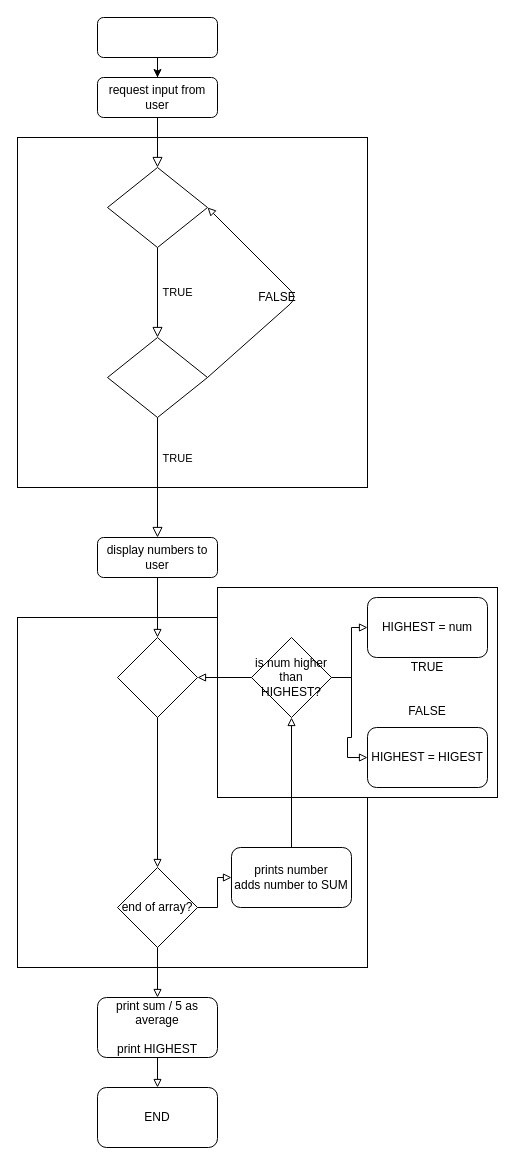
The diagram is 515 pixels wide and 1165 high, and some of its shapes have lost their labels. Here are the shapes that lost their labels. From the top down, the box of each, then its label:
(96, 16, 218, 58): START
(106, 166, 208, 248): did user input a number?
(106, 336, 208, 418): are there 5 numbers?
(116, 636, 198, 718): iterate through array
